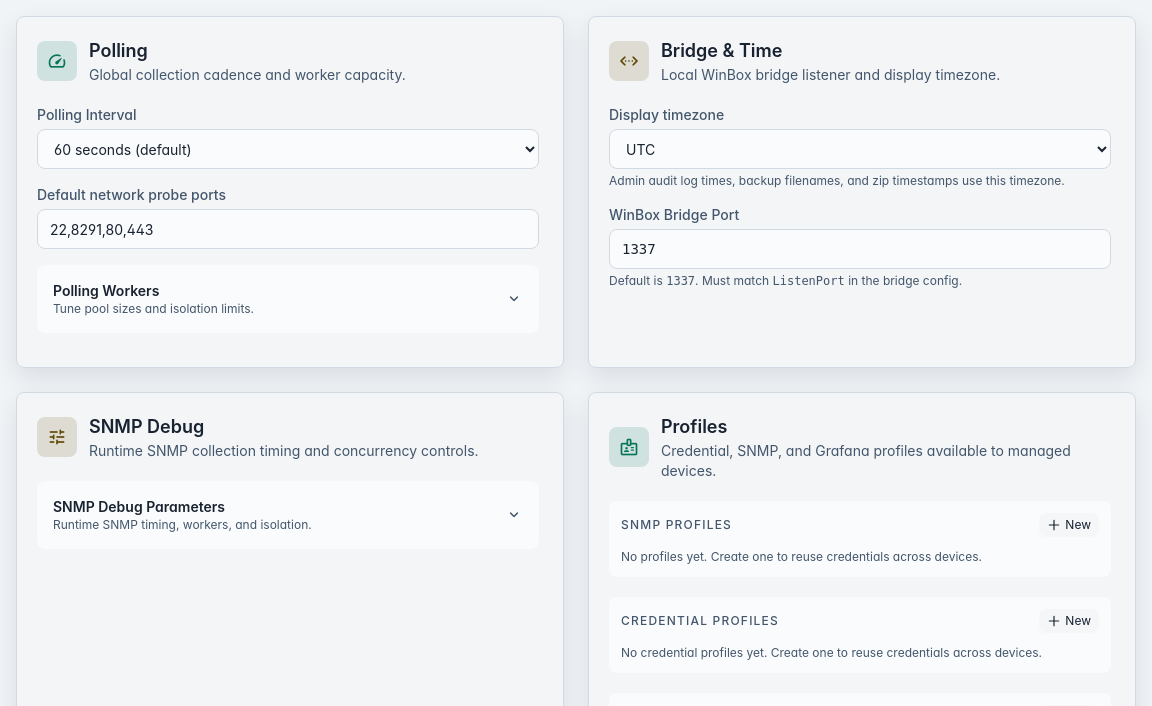
it: SettingsPanel — default network probe ports › rejects invalid default network probe ports without saving
The image size is (1152, 706).
Type "0,443" into the field labelled "Default network probe ports".
click(288, 229); type("0,443")  # box 37,209 -> 539,249
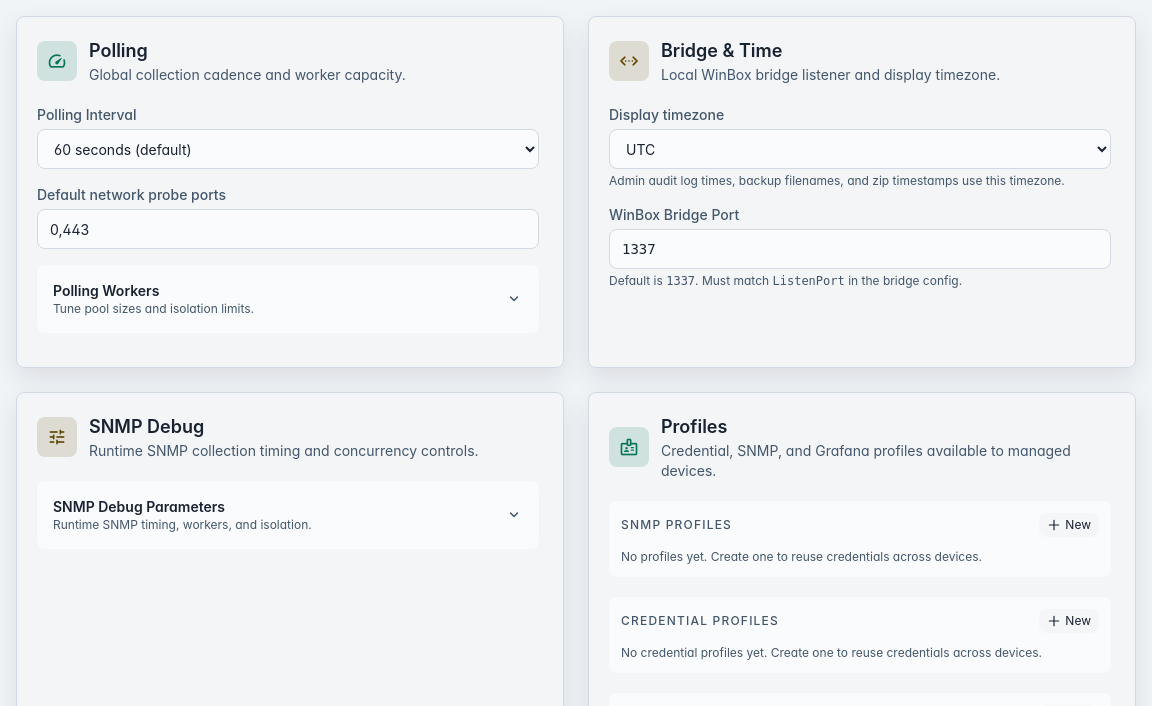
Leave the field labelled "Default network probe ports", box 37,209 -> 539,249
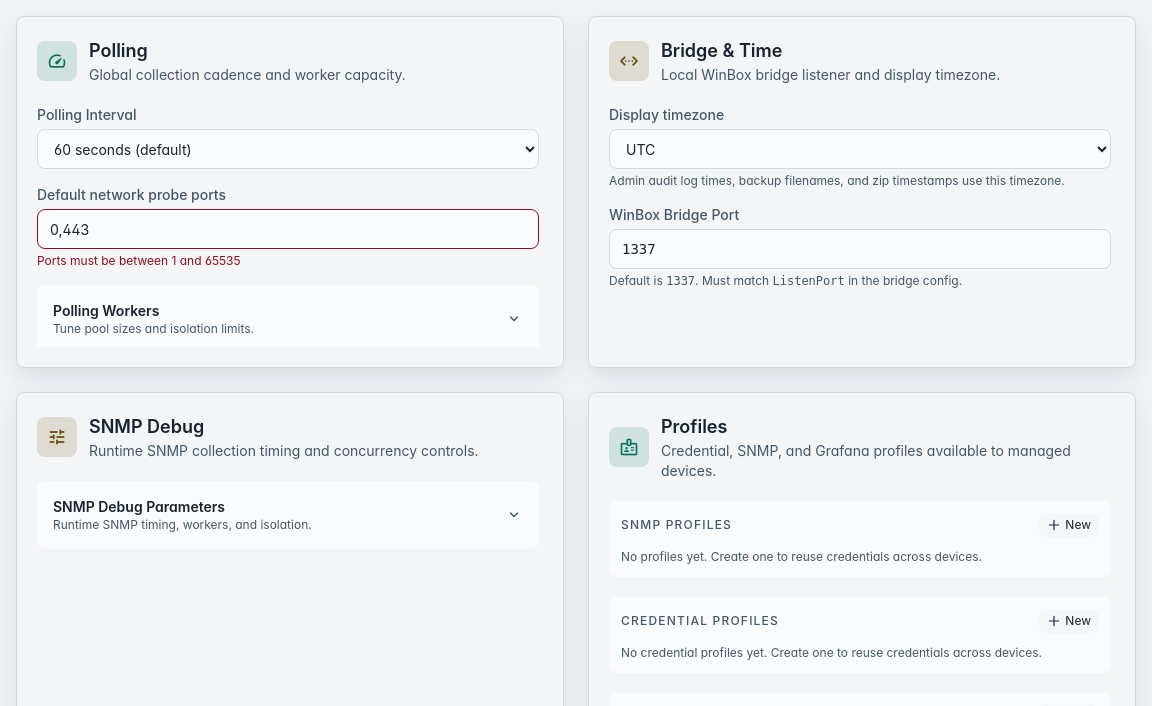
Check: the text "Ports must be between 1 and 65535" is shown, box 37,253 -> 241,268
